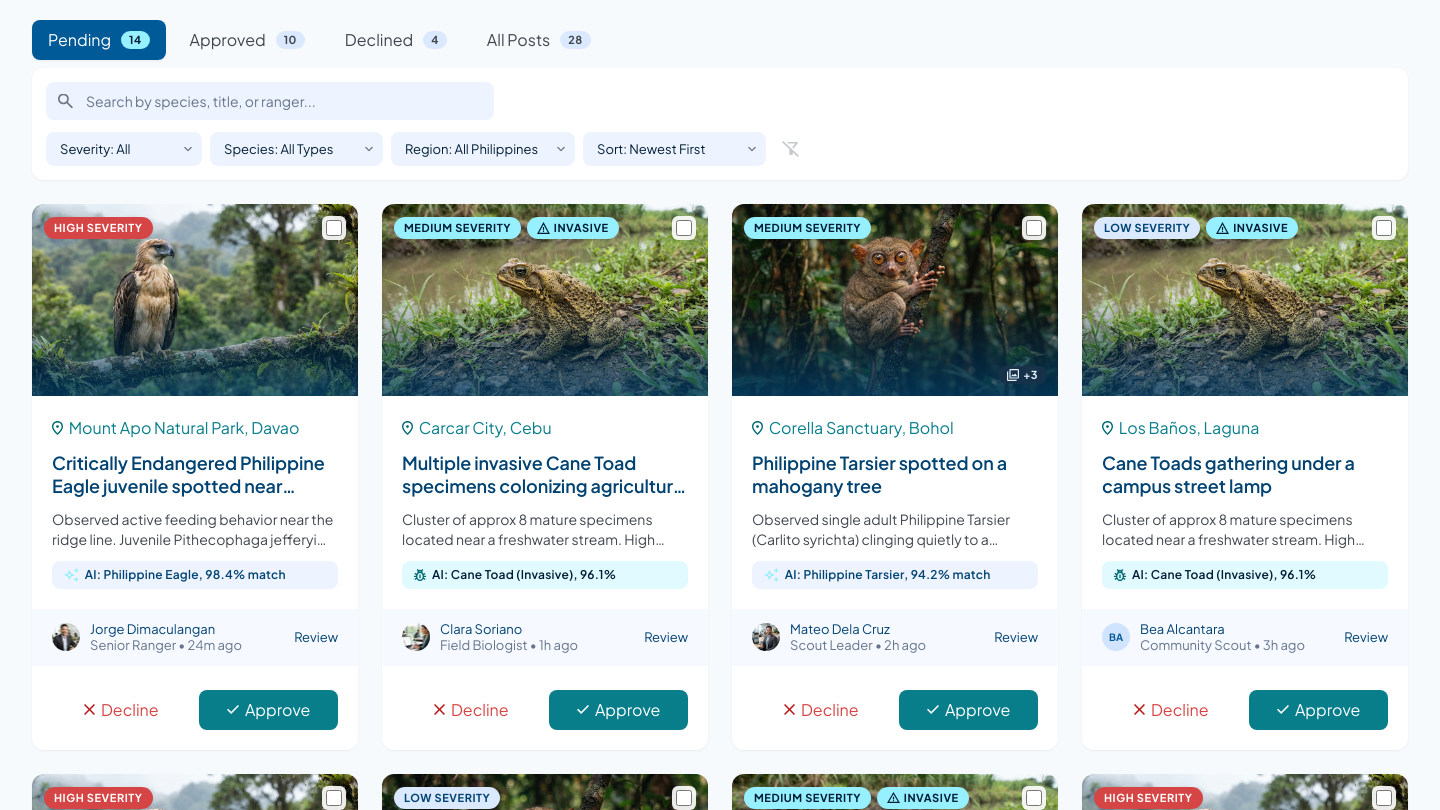
Test case: PostApprovalsScreen › shows the bulk bar while posts are selected
The image size is (1440, 810).
Click the checkbox named "Select post: Critically Endangered Philippine Eagle juvenile": (334, 228) [326,220,342,236]
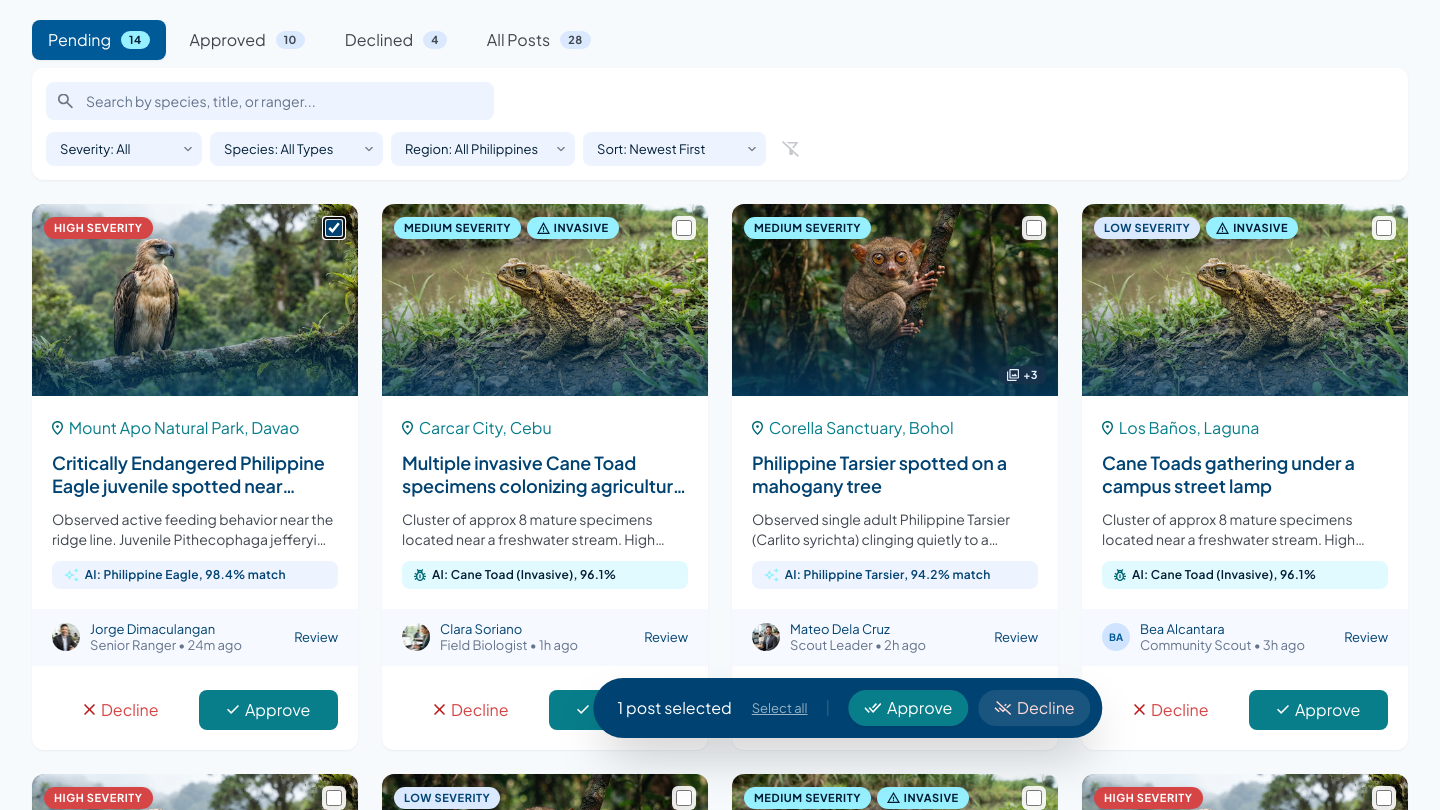
Expected: the button with aria-label "Approve 1 selected post" is disabled, [848,690,968,726]
Expected: the button with aria-label "Decline 1 selected post" is disabled, [978,690,1091,726]
Click the button "Select all": (780, 708) [752,699,808,717]
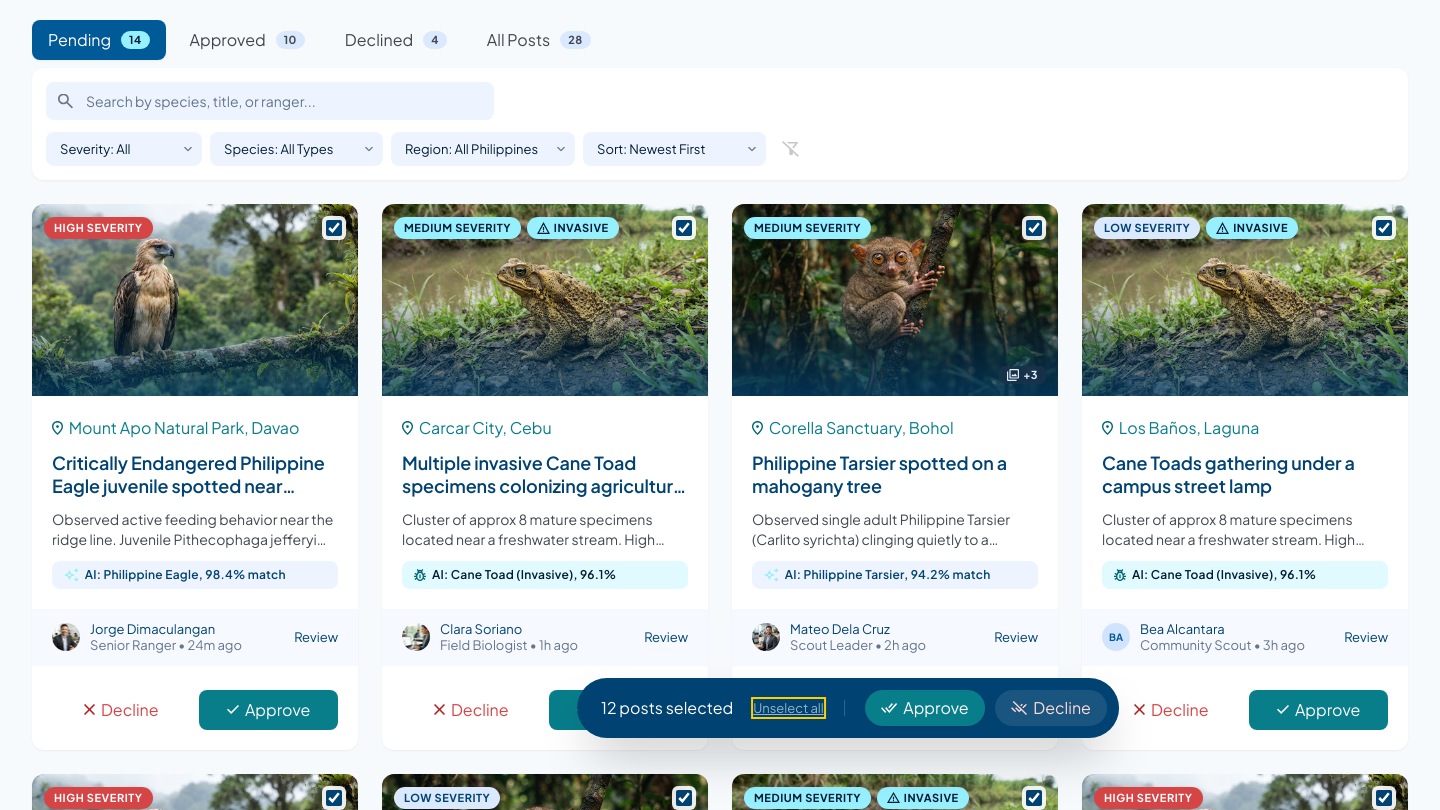
Click the button "Unselect all": (788, 708) [753,699,824,717]
(page scrolled)
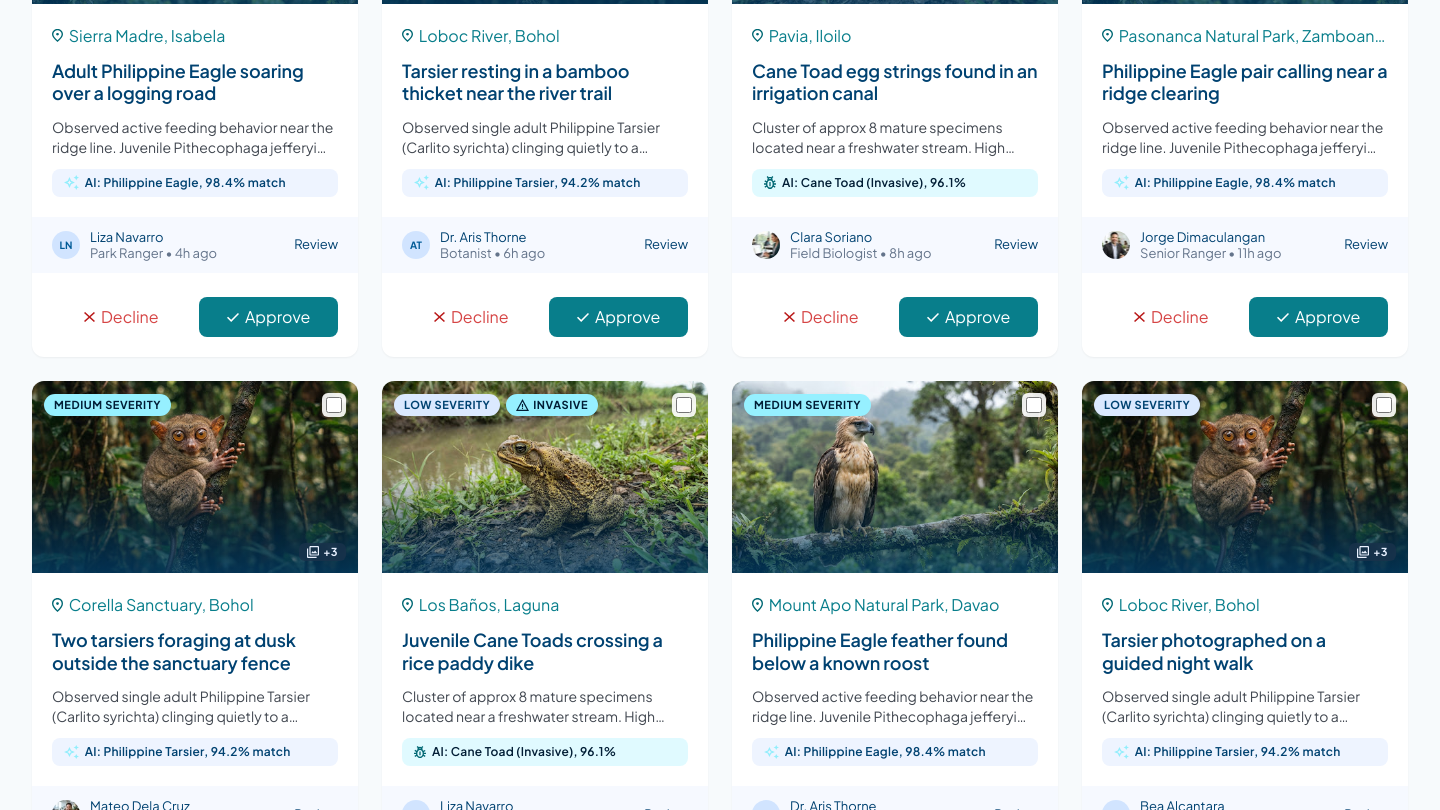
Expected: the checkbox named "Select post: Two tarsiers foraging at dusk outside the sanct" is not checked, [326,397,342,413]
Expected: the checkbox named "Select post: Juvenile Cane Toads crossing a rice paddy dike" is not checked, [676,397,692,413]
Expected: the checkbox named "Select post: Philippine Eagle feather found below a known ro" is not checked, [1026,397,1042,413]
